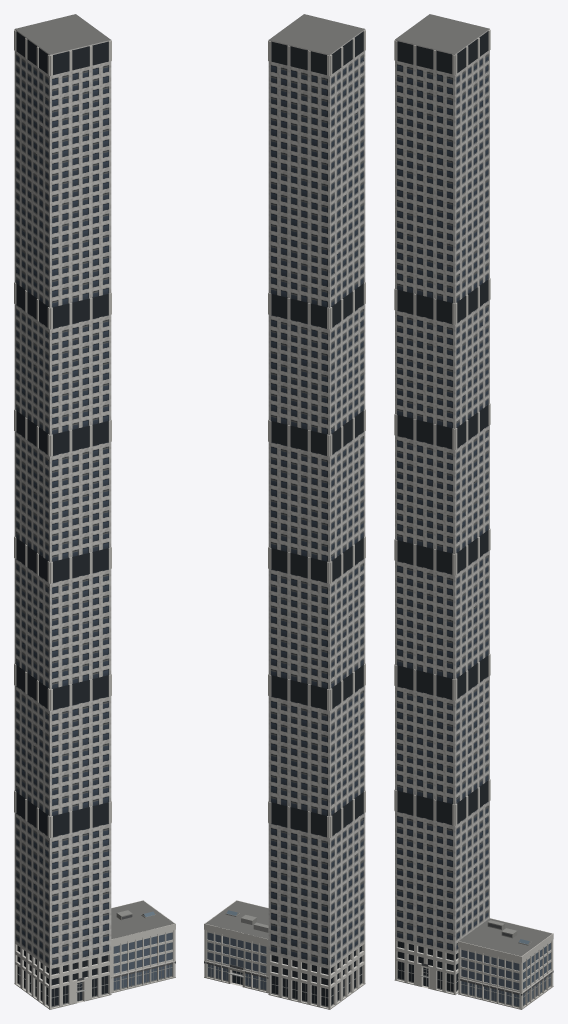
The model's file is park_avenue_432.glb.
3 views of the same model, side by side, from view 1: azimuth 30°, elevation 25°; view 2: azimuth 150°, elevation 25°; view 3: azimuth 330°, elevation 25° (orthographic).
Visible parts, largest first — view 1: park_avenue_432; view 2: park_avenue_432; view 3: park_avenue_432.
Part boxes in pixels (x1,y1,x2,y2): park_avenue_432: (14, 14, 175, 1009); park_avenue_432: (204, 14, 365, 1009); park_avenue_432: (394, 14, 553, 1009).
Bounding box in the file's own units: 59.73 × 426 × 29.19.
2 materials, 2 textured.
